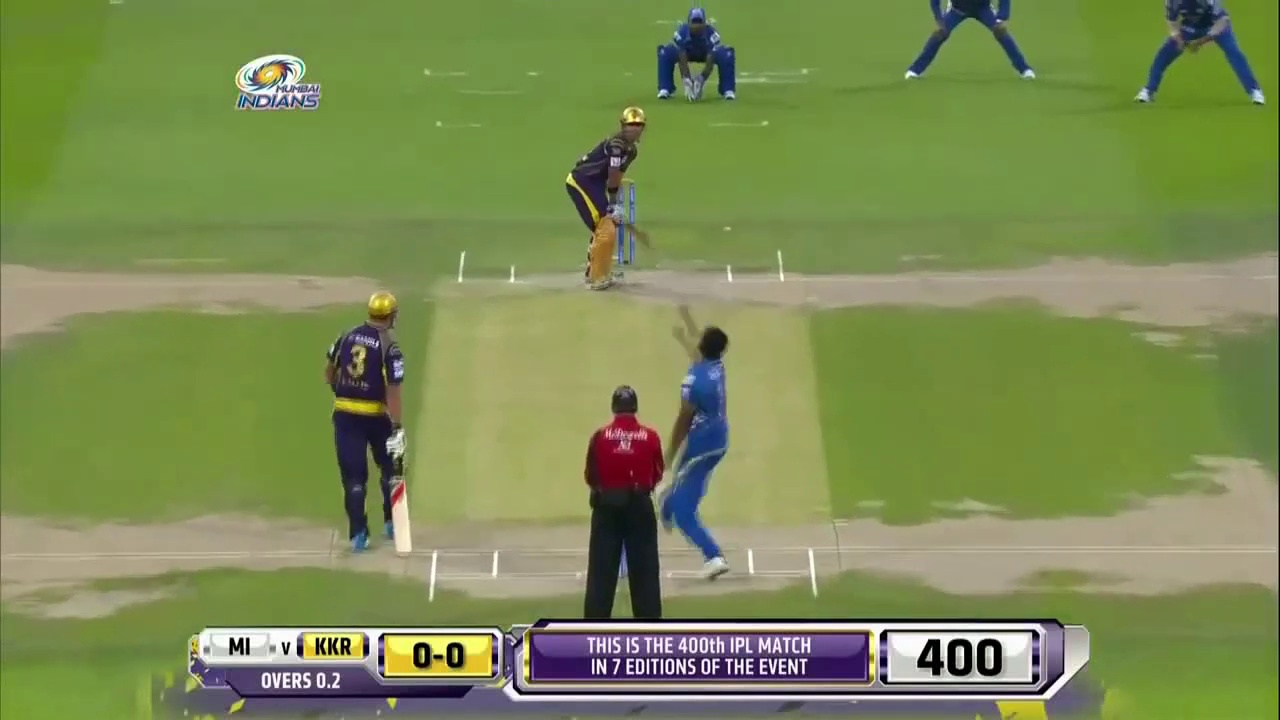bat: (392, 480, 412, 554)
